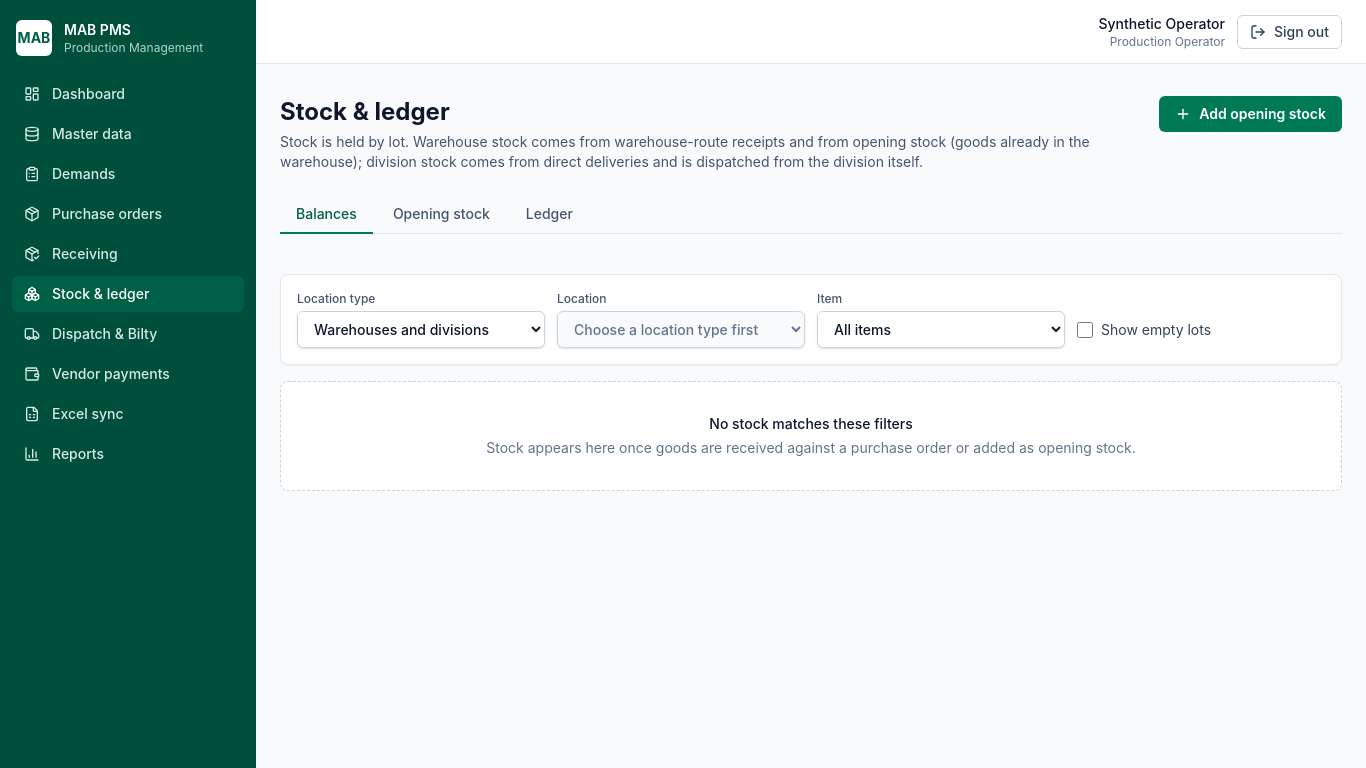
Test case: Opening stock › shows the Add opening stock action to the operator and lists entries
This screenshot has width=1366, height=768.
Click the tab "Opening stock".
click(441, 215)  # box x1=377 y1=196 x2=506 y2=234
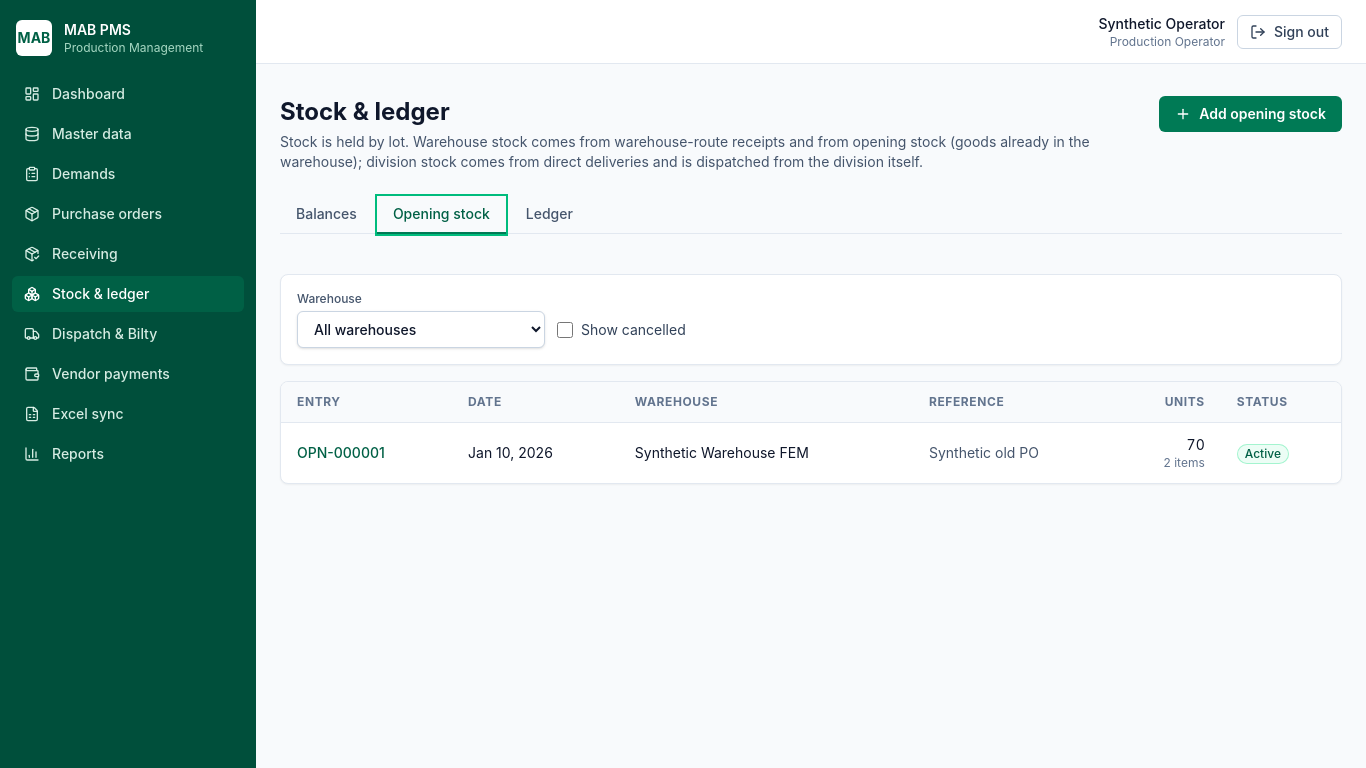
Expected: the text "Synthetic old PO" is shown, x1=913 y1=423 x2=1116 y2=483
